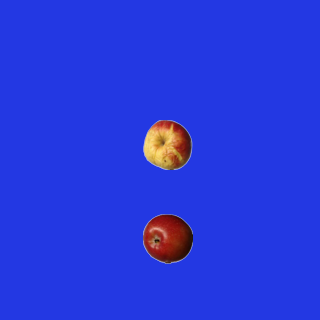Apple Braeburn: (142, 213, 192, 263)
Apple Red Yellow 1: (142, 119, 192, 169)
